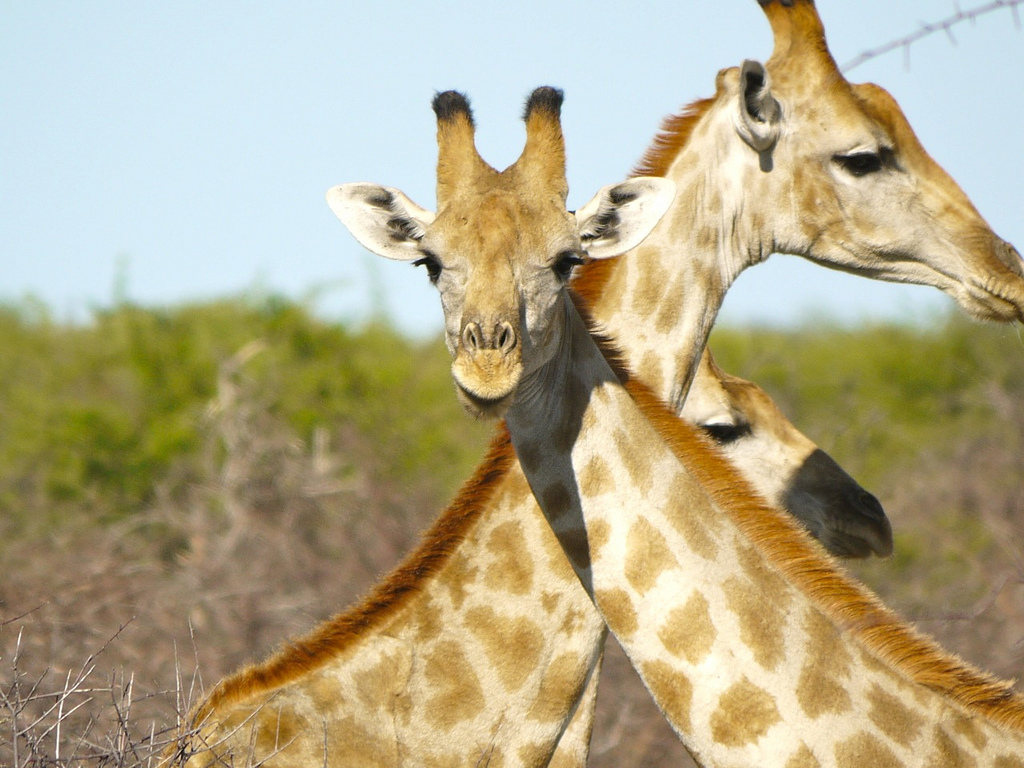giraffe: (247, 24, 991, 759), (387, 93, 954, 750)
